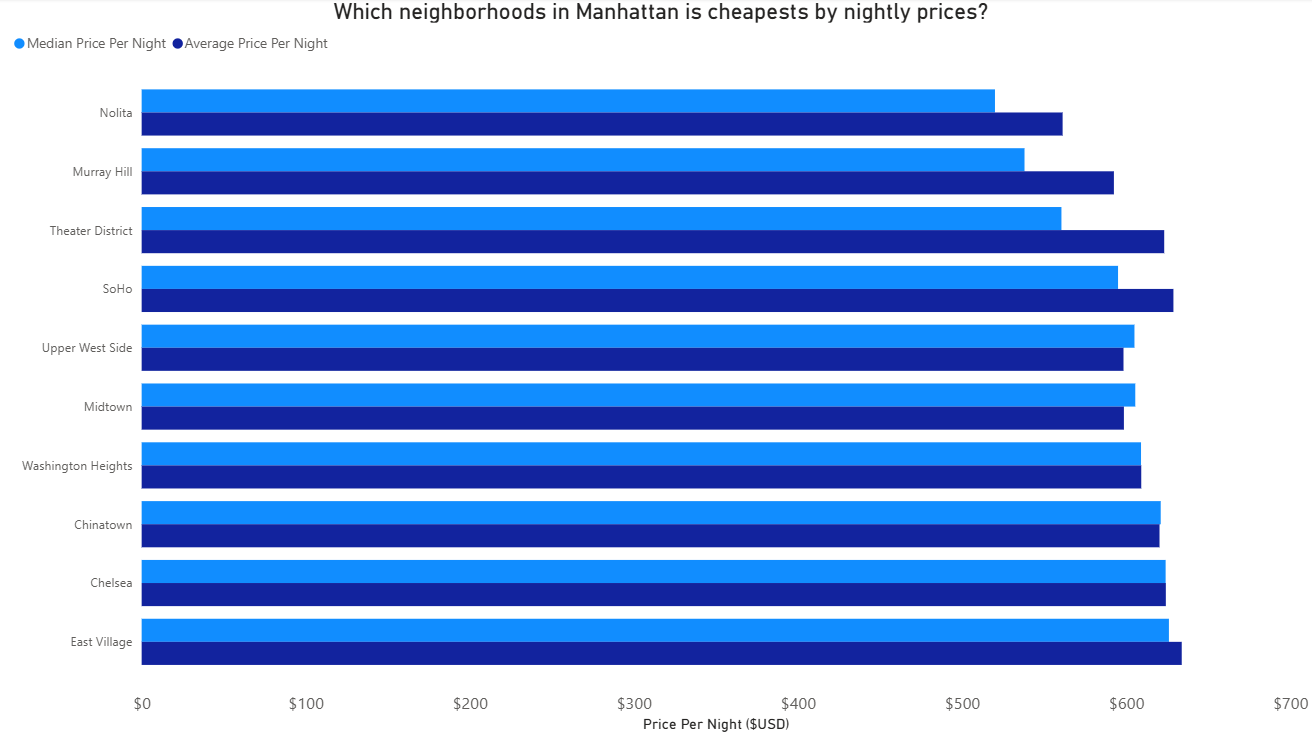

The page's visual inventory and layout, read from the dashboard file:
{"tool":"powerbi","page":{"name":"Query_3","canvas":[1280,720],"ordinal":2},"visuals":[{"type":"clusteredBarChart","title":"Which neighborhoods in Manhattan is cheapests by nightly prices?","fields":{"Y":["Sum(Query_3.median_price_per_night)","Sum(Query_3.avg_price_per_night)"],"Category":["Query_3.neighborhood"]},"box":[9.7,0,1270.3,719.8],"z":0}]}

Visuals, with their boxes in screenshot pixels (x1, y1, x2, y2), scaled from the page's 1280x720 canvas onto the 1312x737 screenshot:
"Which neighborhoods in Manhattan is cheapests by nightly prices?" clusteredBarChart: region(10, 0, 1311, 736)
